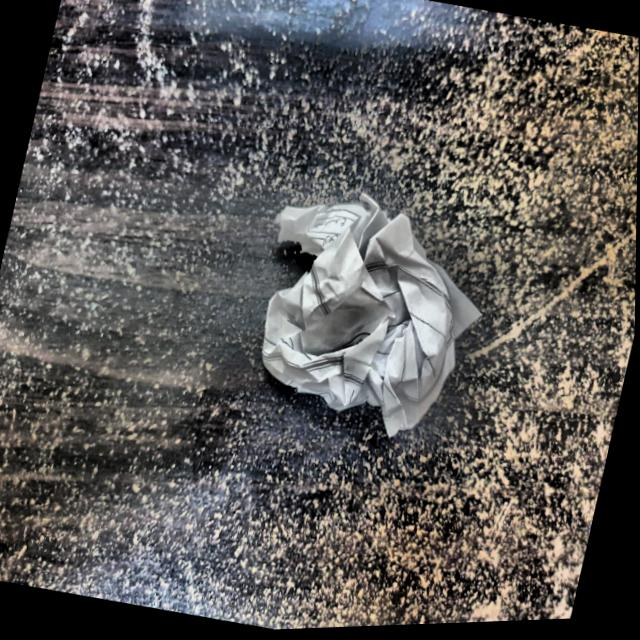Paper: (230, 171, 506, 464)
